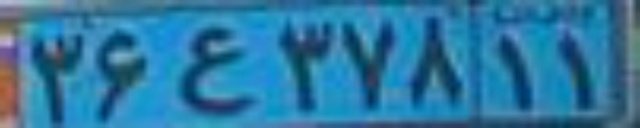1: (550, 30, 595, 111), (492, 33, 532, 111)
3: (274, 19, 335, 111), (28, 35, 82, 127)
6: (89, 32, 147, 124)
7: (338, 17, 399, 108)
8: (406, 15, 464, 109)
ain: (178, 26, 254, 113)
